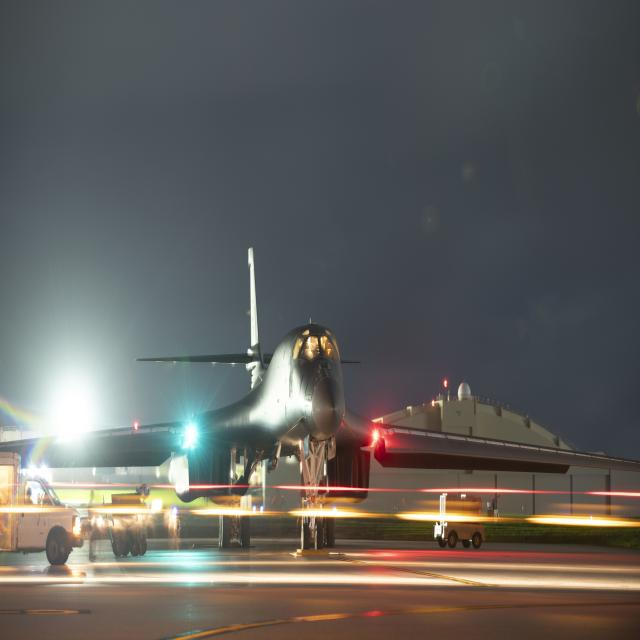MIL_Plane: (0, 241, 640, 543)
